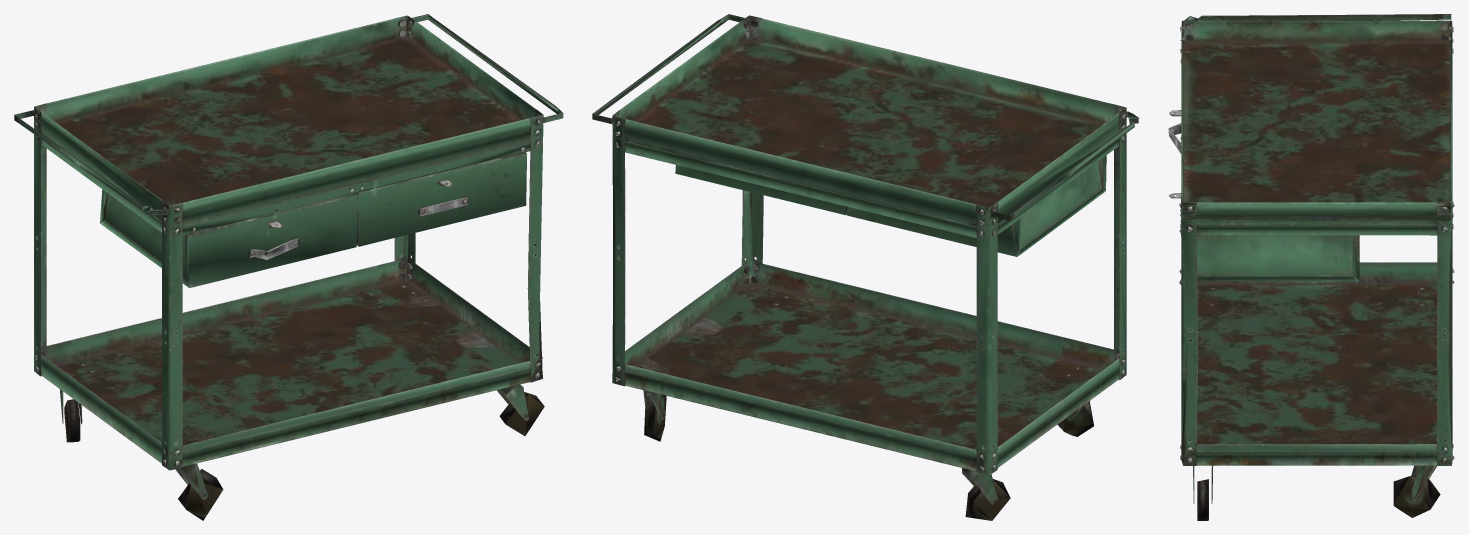
File: toolcart.glb
3 views of the same model, side by side, from view 1: azimuth 30°, elevation 25°; view 2: azimuth 150°, elevation 25°; view 3: azimuth 270°, elevation 25° (orthographic).
Visible parts, largest first — view 1: tool_cart; view 2: tool_cart; view 3: tool_cart.
Part boxes in pixels (left/top/right/bottom): tool_cart: left=14, top=14, right=563, bottom=520; tool_cart: left=592, top=14, right=1139, bottom=520; tool_cart: left=1168, top=14, right=1454, bottom=520.
Bounding box in the file's own units: 1.26 × 0.9572 × 0.7536.
1 material, 1 textured.
